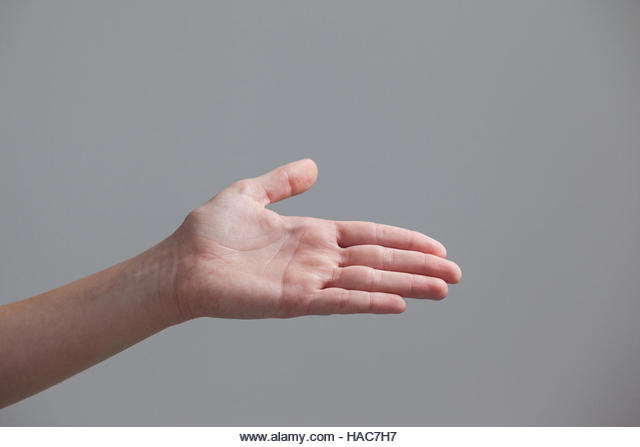hand: (144, 147, 469, 352)
